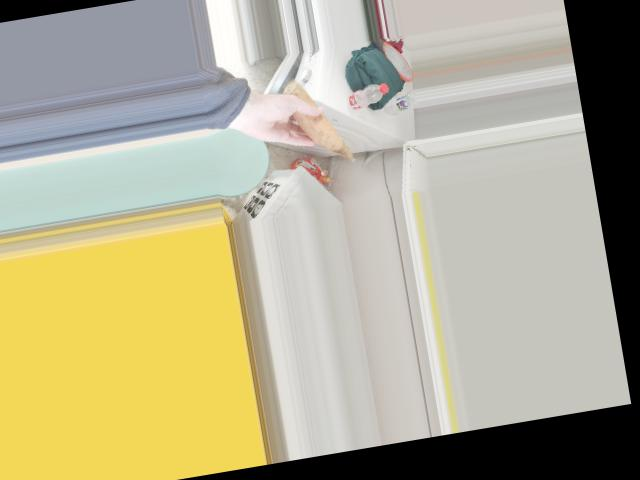sweet_potato: (290, 94, 345, 149)
